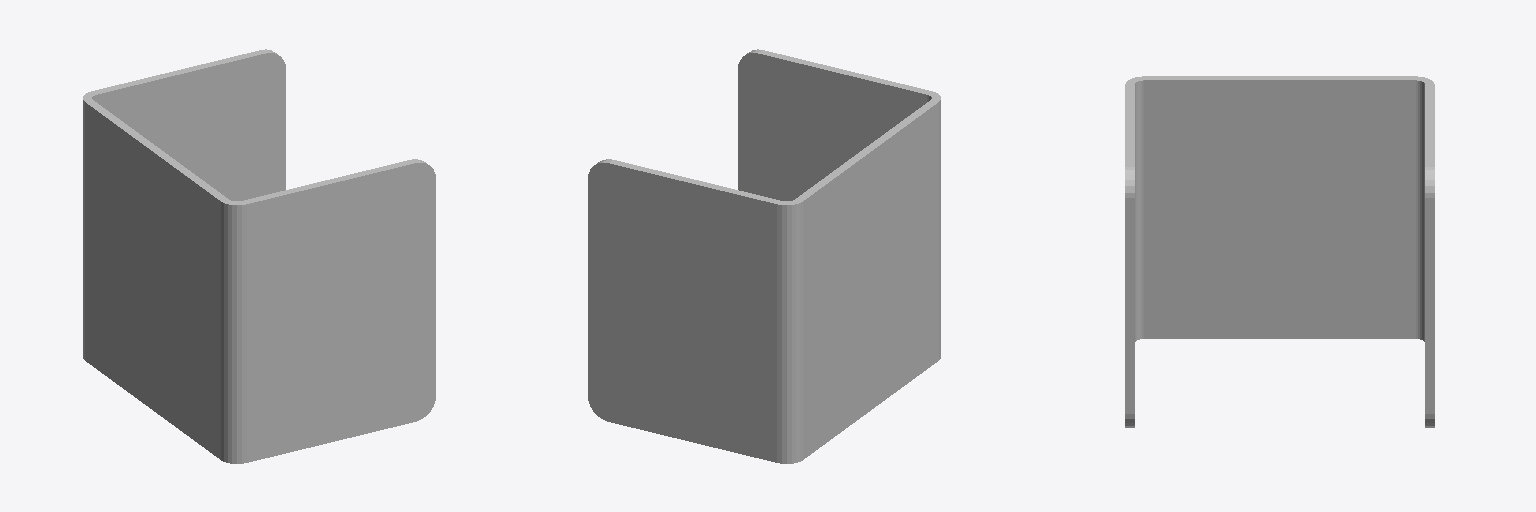
File: B23 (Inner Joint) v3 (Stainless Steel).obj
3 renders of one model, left to right at view 1: azimuth 30°, elevation 25°; view 2: azimuth 150°, elevation 25°; view 3: azimuth 270°, elevation 25°, orthographic.
Visible parts, largest first — view 1: Body1; view 2: Body1; view 3: Body1.
Part boxes in pixels (x1,y1,x2,y2): Body1: (83,49,435,463); Body1: (588,49,940,463); Body1: (1125,76,1434,427).
Size of the model in its own units: 100 by 120 by 130.